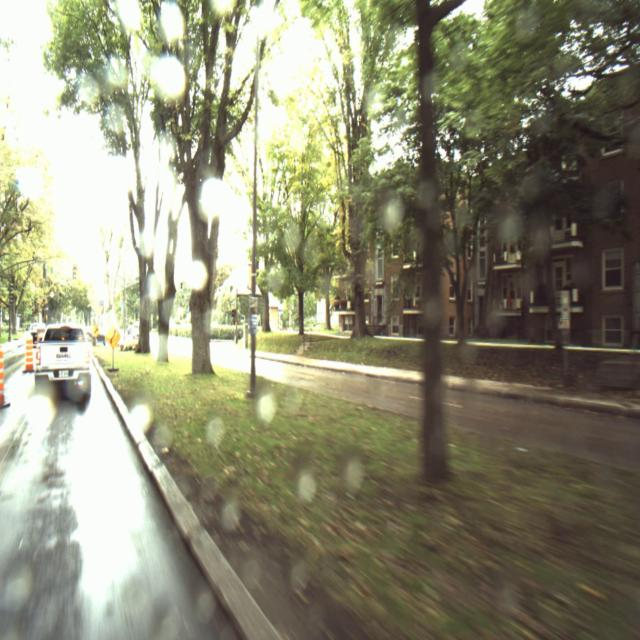car: (35, 325, 92, 404)
